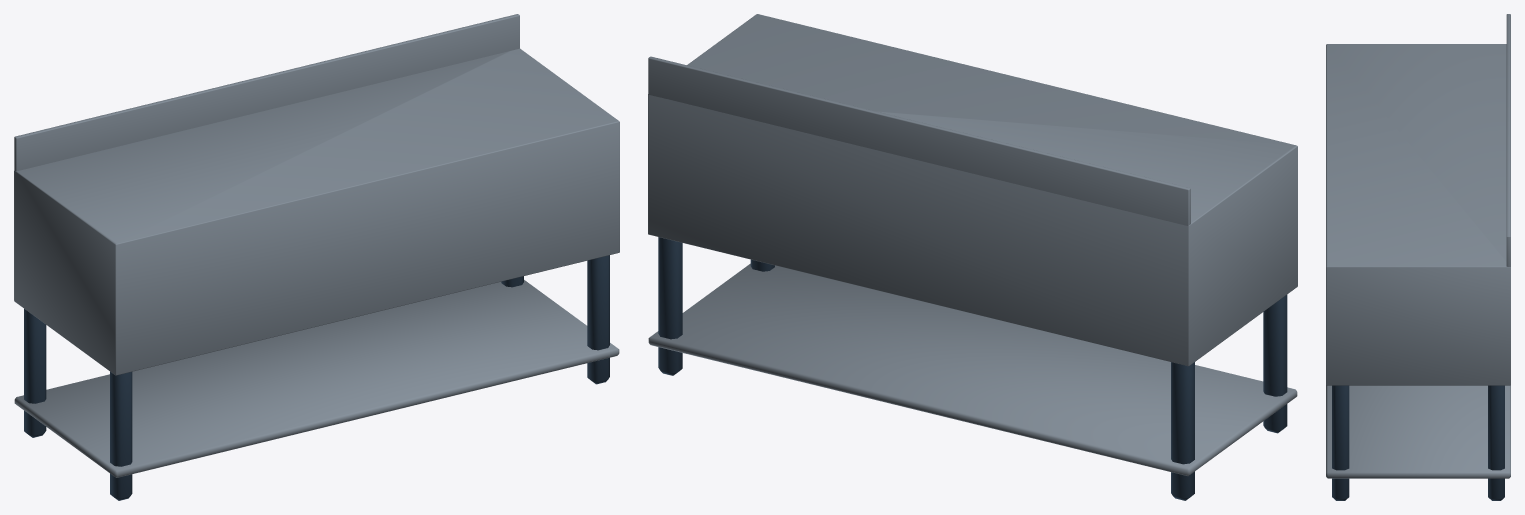
The model's file is Counter-1.fbx.
3 renders of one model, left to right at view 1: azimuth 30°, elevation 25°; view 2: azimuth 150°, elevation 25°; view 3: azimuth 270°, elevation 25°, orthographic. The views are drawn at different scales.
Parts seen in each view (by area): view 1: Counter-1; view 2: Counter-1; view 3: Counter-1.
Part boxes in pixels (box(x1,y1,x2,y2)): Counter-1: box(14, 14, 619, 500); Counter-1: box(648, 14, 1297, 500); Counter-1: box(1326, 14, 1510, 500).
Bounding box in the file's own units: 2 × 1.12 × 0.7.
